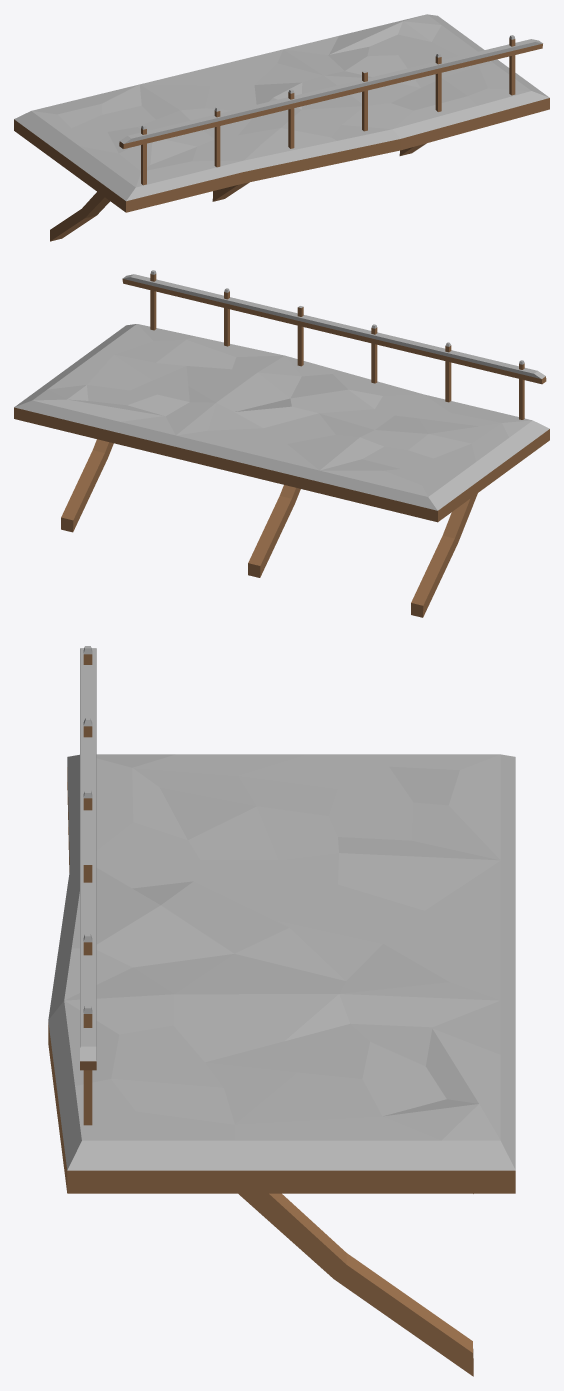
The model's file is Plattform_1 winter.fbx.
3 views of the same model, one above another, from view 1: azimuth 30°, elevation 25°; view 2: azimuth 150°, elevation 25°; view 3: azimuth 270°, elevation 25° (orthographic). The views are drawn at different scales.
Visible parts, largest first — view 1: PlattformWinter_mesh; view 2: PlattformWinter_mesh; view 3: PlattformWinter_mesh.
Boxes of the visible parts, <box> form: PlattformWinter_mesh: <box>14,14,549,241</box>; PlattformWinter_mesh: <box>14,270,549,617</box>; PlattformWinter_mesh: <box>48,646,515,1376</box>.
Size of the model in its own units: 437 by 184 by 208.
